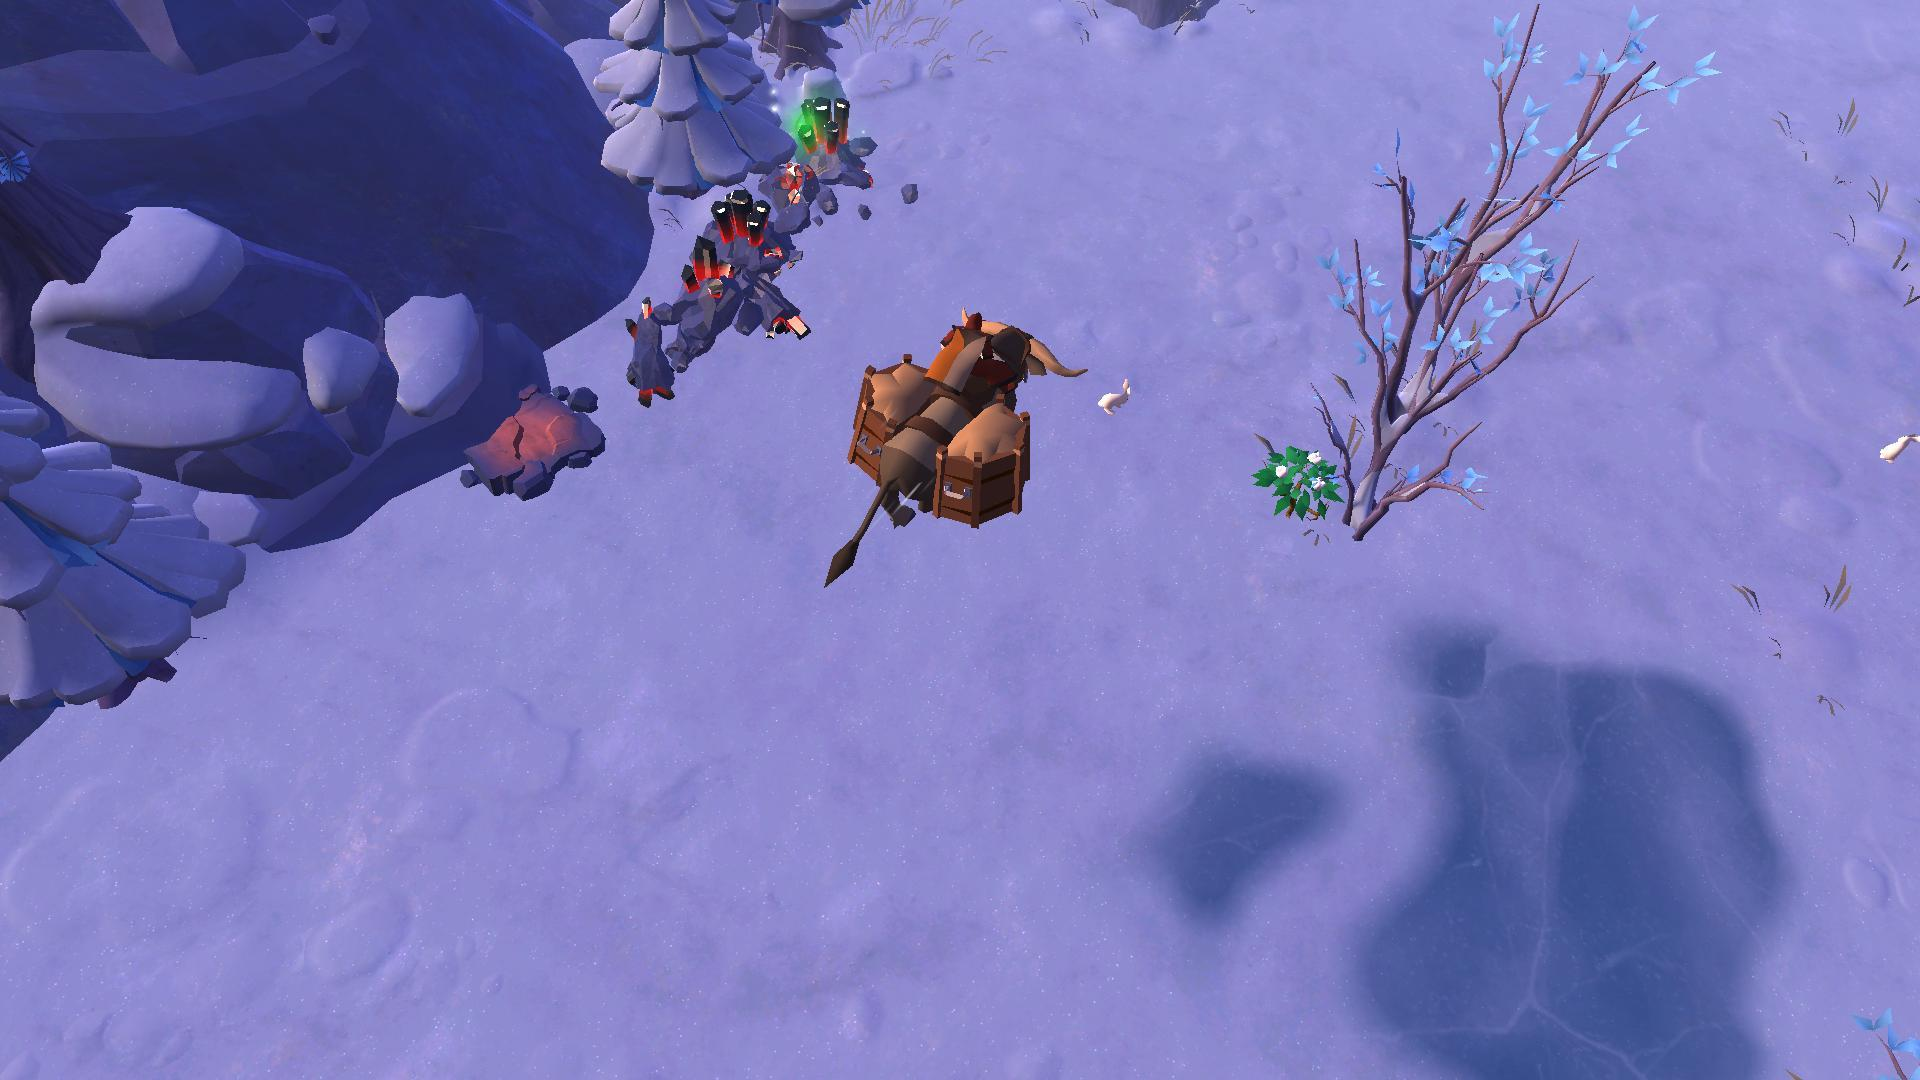fiber_t3: (1247, 431, 1344, 526)
ore_t5: (709, 179, 775, 243), (793, 91, 851, 158)
